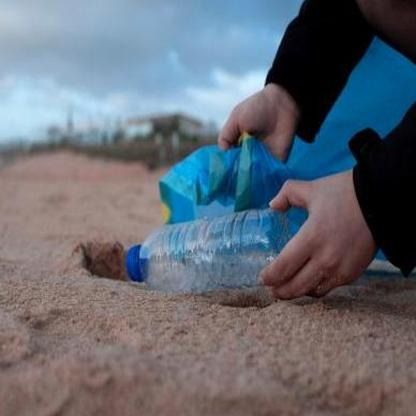plastic bottle: (126, 208, 286, 287)
